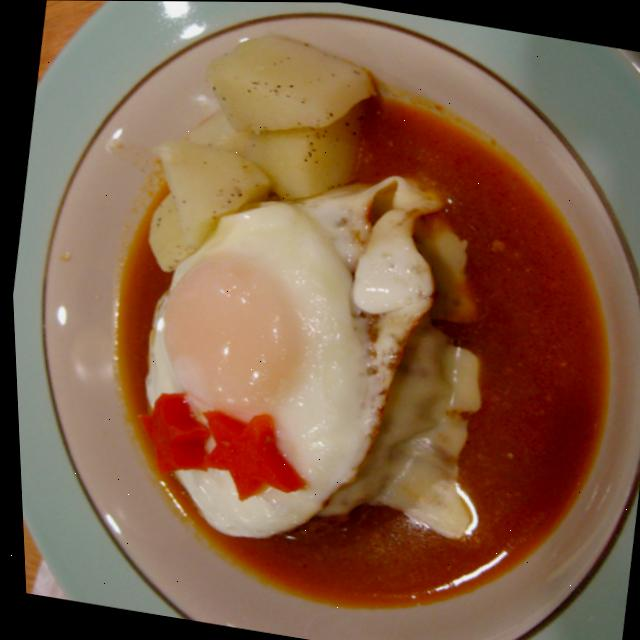鸡蛋料理: (82, 130, 471, 588)
